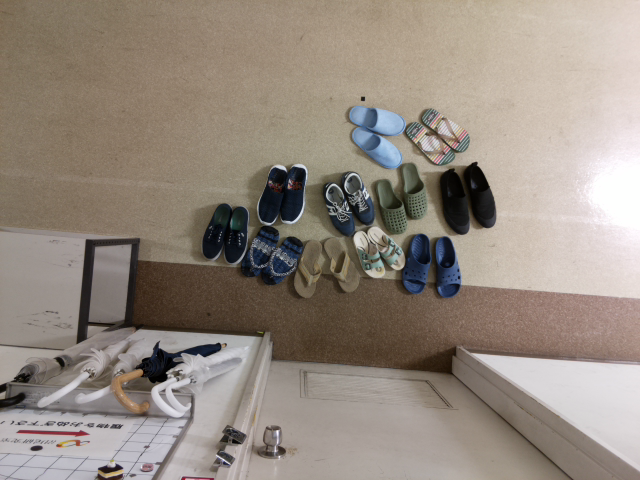Copy of Copy of Copy of Copy of Copy of Copy of Copy of Copy of Copy of Copy of: (419, 103, 472, 154), (459, 162, 497, 230), (350, 124, 406, 170), (405, 119, 457, 167), (253, 161, 292, 225), (436, 163, 470, 236), (370, 173, 410, 234), (338, 168, 377, 226), (344, 104, 405, 138), (277, 162, 309, 225), (320, 179, 355, 236), (400, 159, 429, 220)
Copy of Copy of Copy of Copy of Copy of Copy of Copy of Copy of Copy of shoe: (432, 232, 462, 301)
Copy of Copy of Copy of Copy of Copy of Copy of Copy of Copy of shoe: (400, 230, 433, 296)
Copy of Copy of Copy of Copy of Copy of Copy of Copy of shoe: (364, 225, 407, 274)
Copy of Copy of Copy of Copy of Copy of Copy of shoe: (352, 231, 388, 282)
Copy of Copy of Copy of Copy of Copy of shoe: (321, 233, 360, 297)
Copy of Copy of Copy of Copy of shoe: (293, 237, 324, 299)
Copy of Copy of Copy of shoe: (262, 234, 305, 288)
Copy of Copy of shoe: (242, 223, 279, 278)
Copy of shoe: (225, 203, 255, 268)
shoe: (201, 199, 231, 264)
